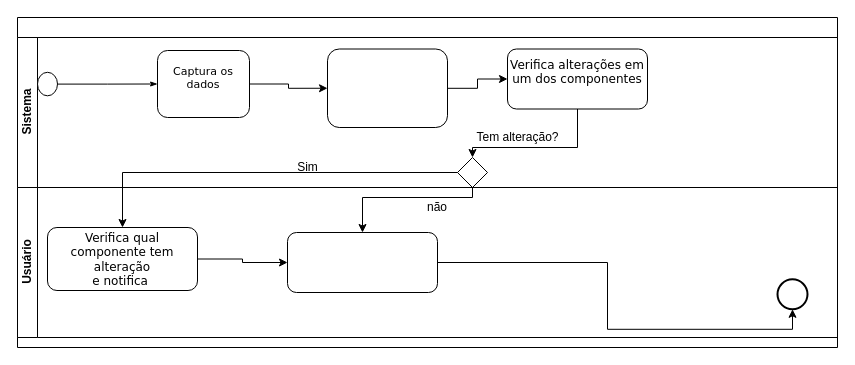
This 855x365 diagram has some shape labels left out. The centre of each missing label's shape, as x and y in pixels:
fim: point 792,294
Guarda os dados na nuvem: point 387,88
Notifica as medias de uso dos componentes por periodos(dia,hora): point 362,262
